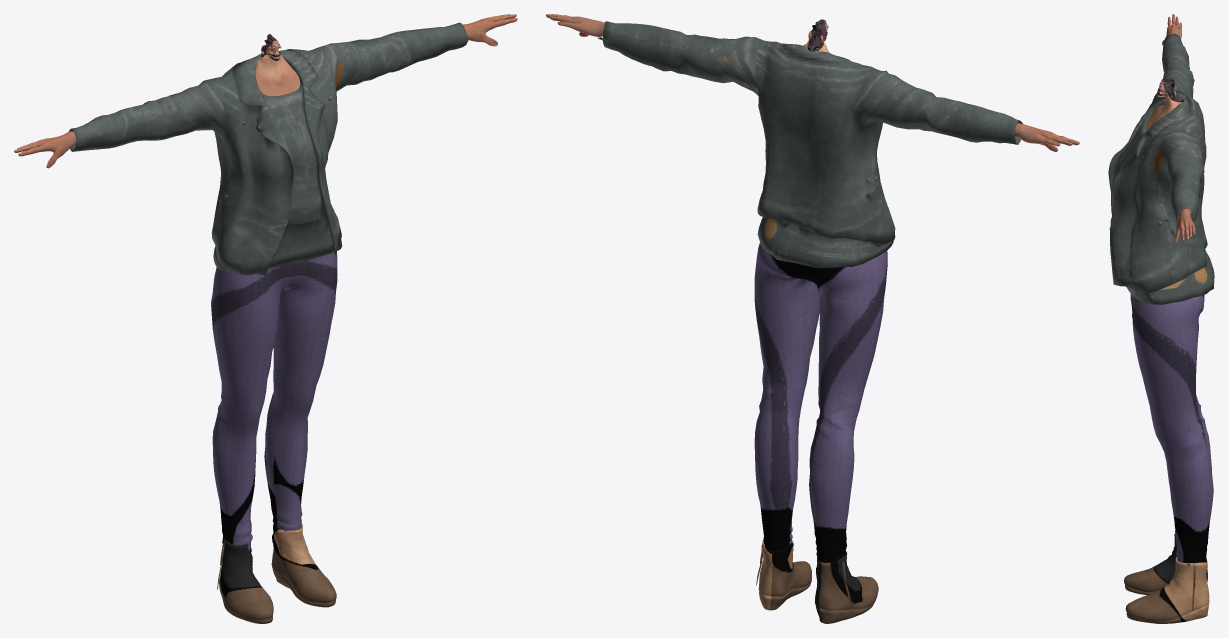
The model's file is NEW PLAYER 2.obj.
The picture shows the model from 3 angles, left to right: view 1: azimuth 30°, elevation 25°; view 2: azimuth 150°, elevation 25°; view 3: azimuth 270°, elevation 25°; orthographic projection. The views are drawn at different scales.
Visible parts, largest first — view 1: Tops, Bottoms, Shoes, Body; view 2: Tops, Bottoms, Shoes, Body; view 3: Tops, Bottoms, Shoes, Body, Hats.
Part boxes in pixels (x1=…): Tops: x1=69, y1=22, x2=468, y2=275; Bottoms: x1=211, y1=252, x2=337, y2=550; Shoes: x1=217, y1=523, x2=336, y2=623; Body: x1=14, y1=14, x2=517, y2=168; Tops: x1=597, y1=21, x2=1022, y2=268; Bottoms: x1=754, y1=242, x2=887, y2=562; Shoes: x1=756, y1=539, x2=878, y2=623; Body: x1=546, y1=14, x2=1079, y2=151; Tops: x1=1108, y1=33, x2=1214, y2=304; Bottoms: x1=1130, y1=294, x2=1213, y2=565; Shoes: x1=1124, y1=534, x2=1209, y2=623; Body: x1=1146, y1=14, x2=1195, y2=244; Hats: x1=1161, y1=78, x2=1184, y2=102.
Bounding box in the file's own units: 159 × 169 × 30.98.
